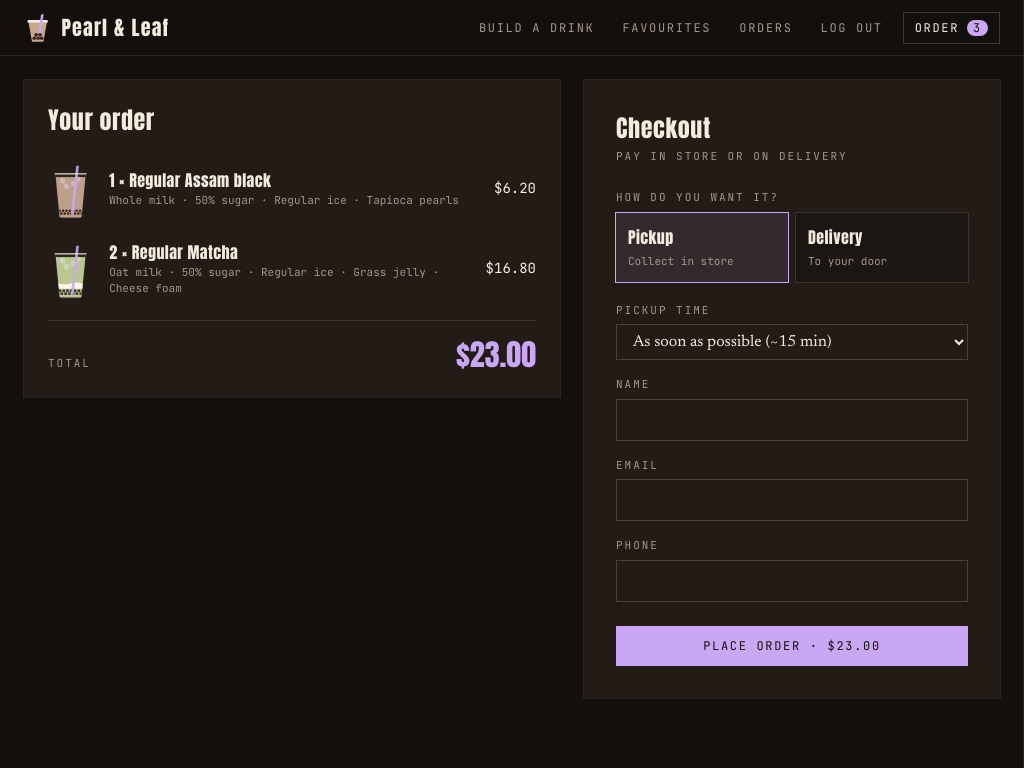
it: <CheckoutPage /> › places a pickup order for every line and lands on the orders page
expect the heading "Checkout" is shown: met, box [616,110,711,146]
Step 1. Type "Ada Lovelace" into the field labelled "Name" → x=792, y=420, box [616,398,968,440]
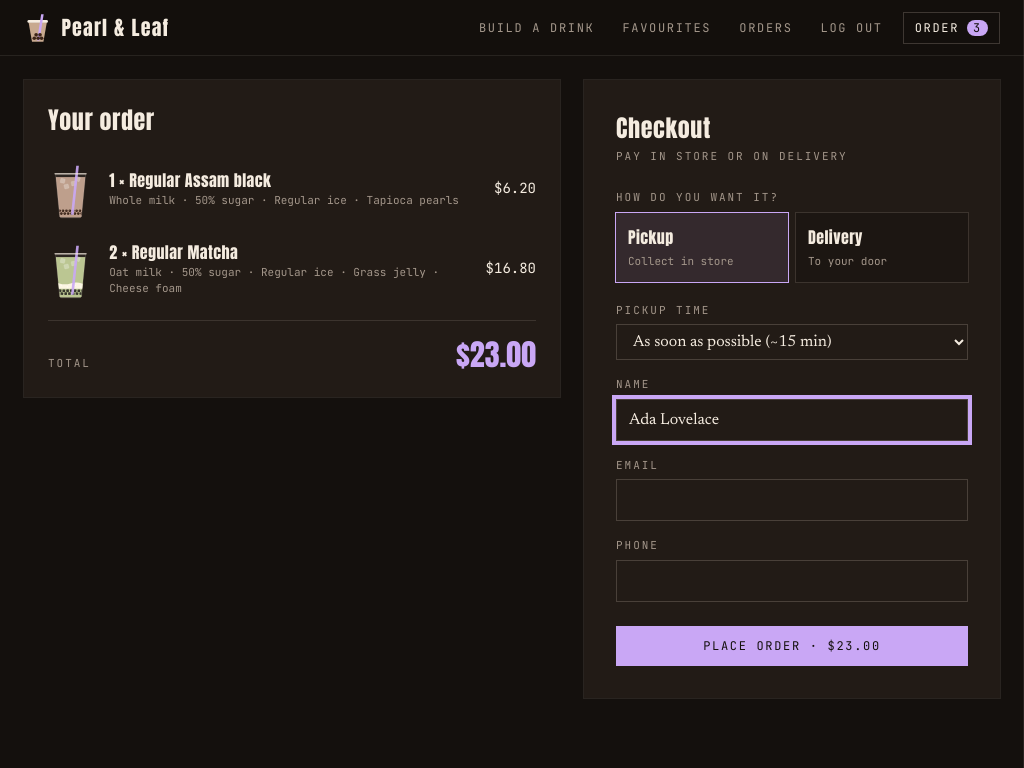
Step 2. Type "ada@example.com" into the field labelled "Email" → x=792, y=500, box [616,479,968,521]
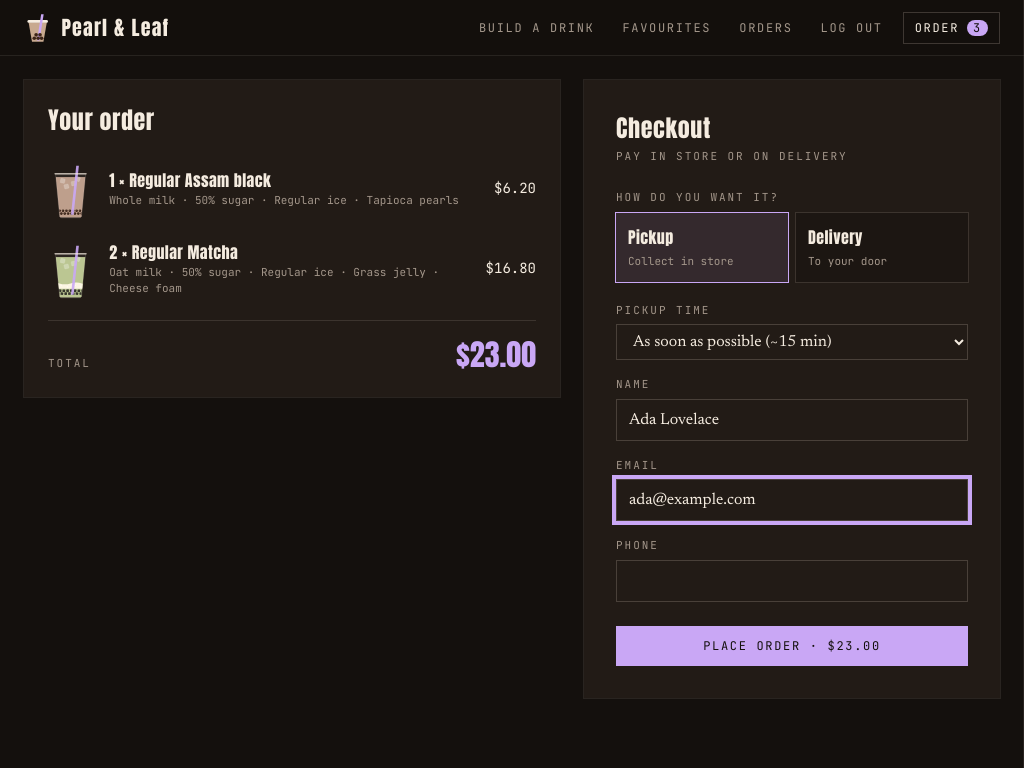
Step 3. Type "+44 7700 900123" into the field labelled "Phone" → x=792, y=580, box [616,560,968,602]
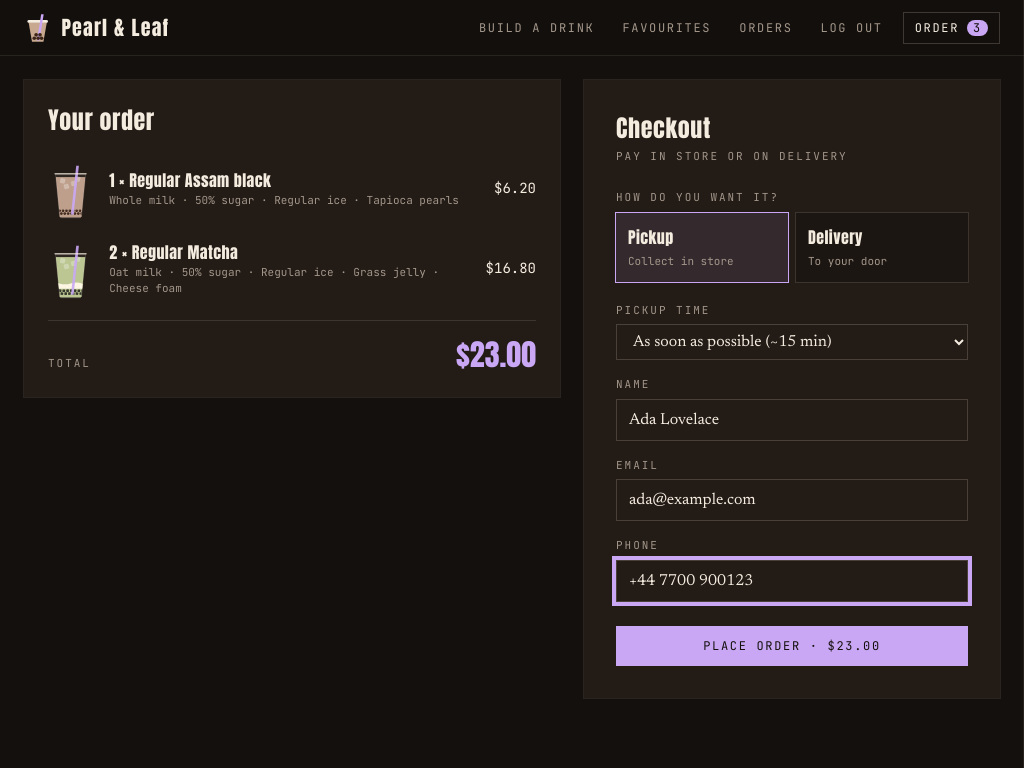
Step 4. Click the button "Place order · $23.00" → x=792, y=646, box [616,626,968,666]
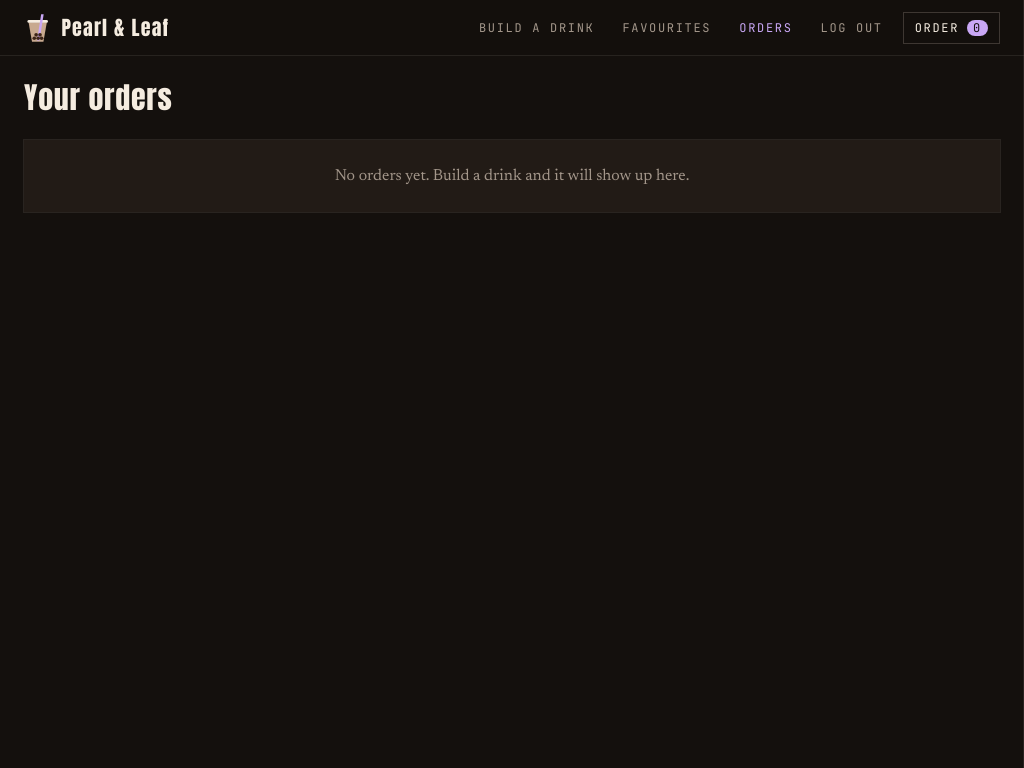
expect the heading "Your orders" is shown: met, box [24,75,172,120]
